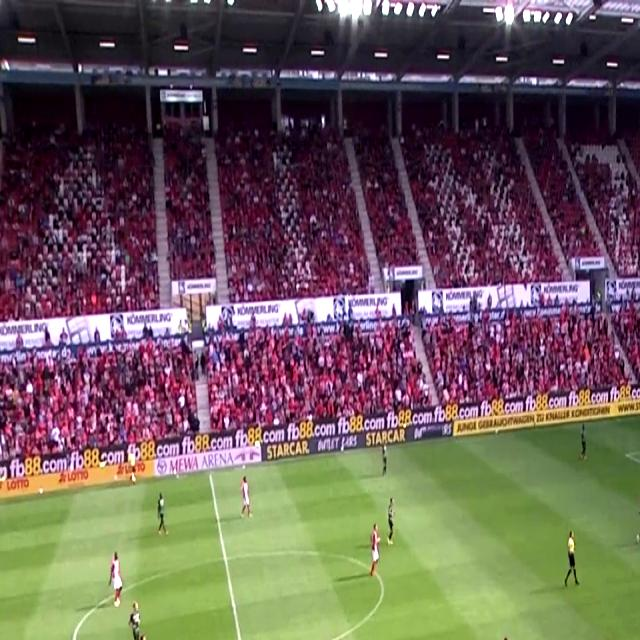referee: (560, 530, 586, 596)
soccer-player: (106, 550, 130, 614), (363, 522, 387, 584), (381, 492, 399, 548), (152, 488, 170, 539), (126, 599, 146, 640), (235, 474, 252, 522), (573, 425, 593, 464), (631, 496, 640, 552), (130, 633, 164, 640), (492, 636, 518, 640)
